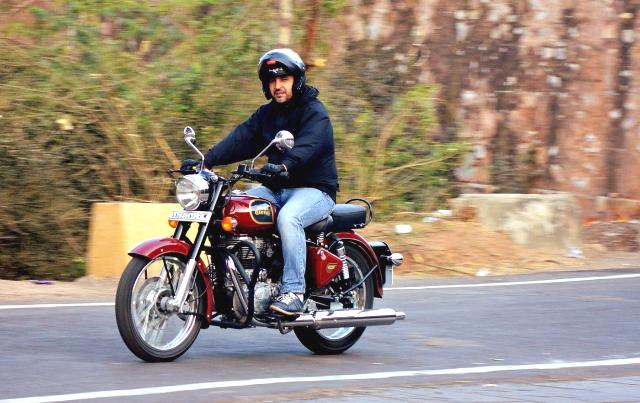licensePlate: (168, 210, 212, 222)
motorcycle: (112, 43, 402, 362)
withHelmet: (252, 49, 304, 106)
